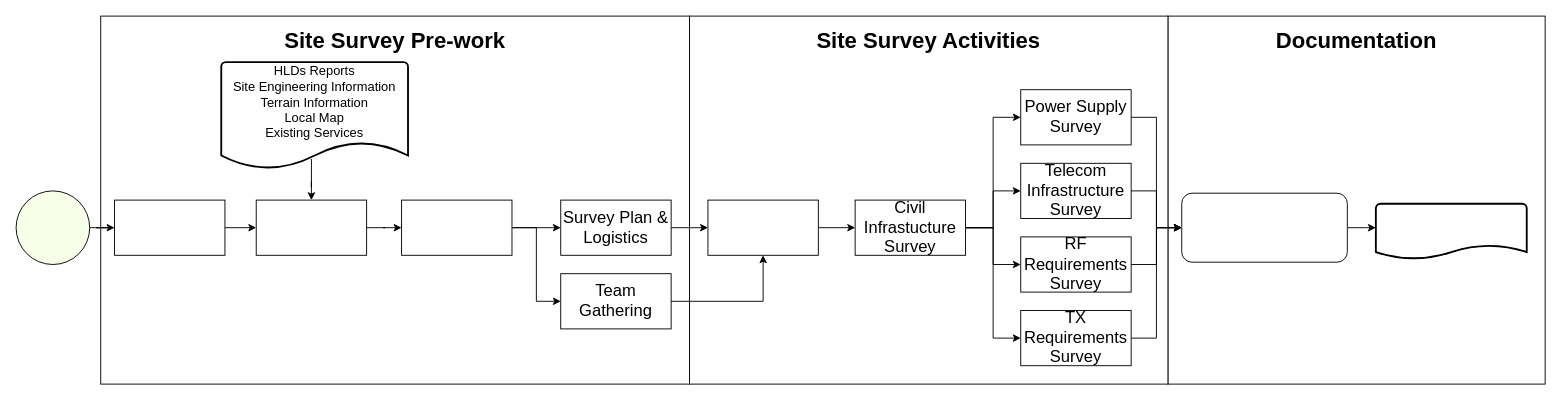
Image size: 1561x400. Some labels were removed from this diagram. Here are the shapes that lost their labels. From the top down, the centre of each, then its label:
At point 169,227: "Use Case Identification".
At point 311,227: "Data Collection".
At point 456,227: "Resource Preparation".
At point 762,227: "Site's Basic Information".
At point 1264,227: "Site Survey Report Generation".
At point 1450,230: "Site Survey Report".
